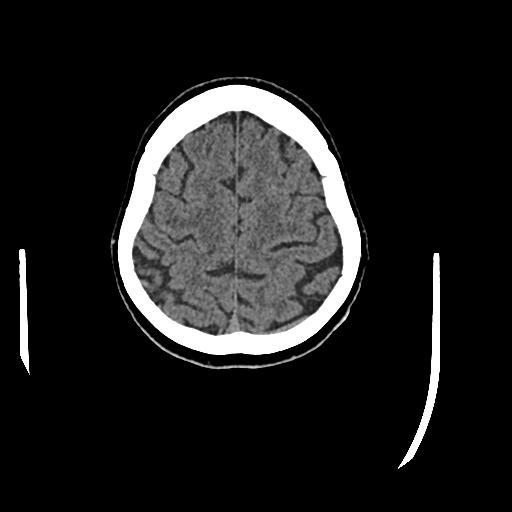Normal_Brain: (118, 72, 363, 371)
